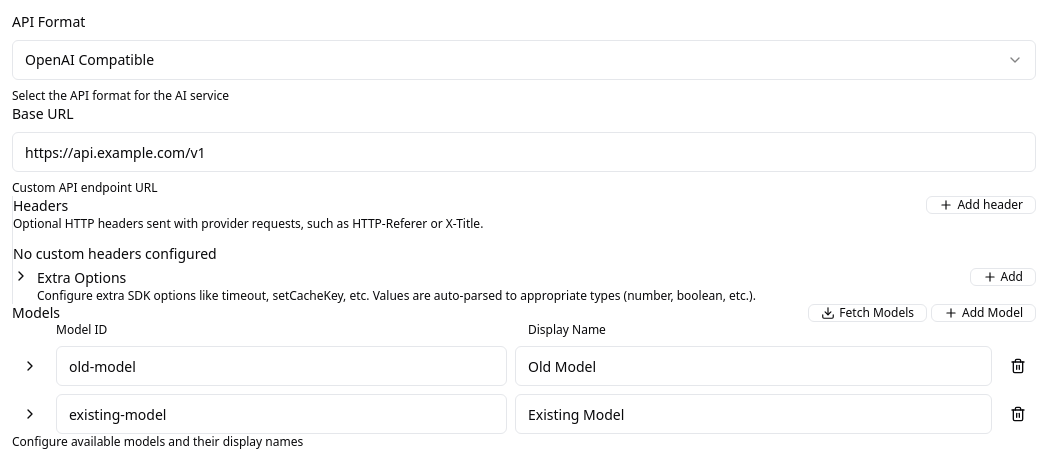
Scenario: OpenCodeFormFields › restores the model ID input when a manual rename collides with an existing model
Replace the text in the 1st field showing "old-model" with "existing-model" at {"x": 282, "y": 366}, box top-left (56, 346), bottom-right (507, 386)
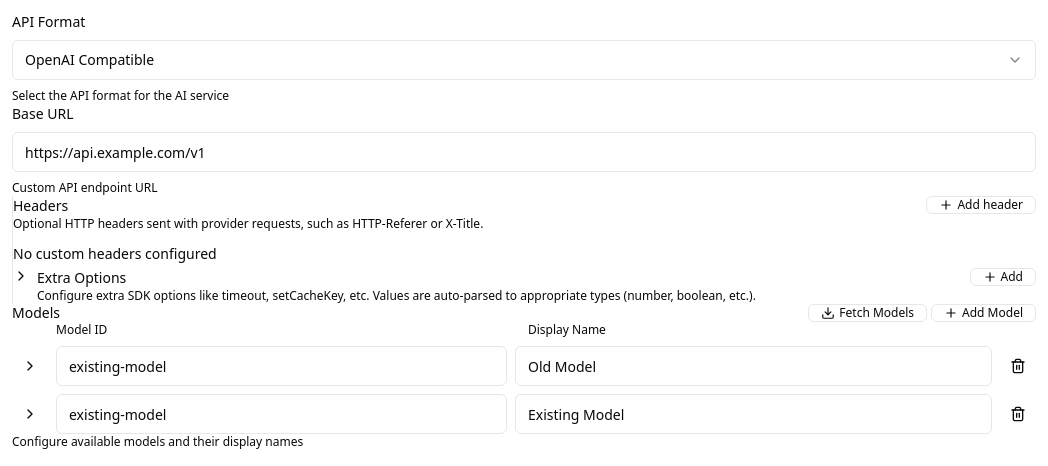
Leave the 1st field showing "old-model", box top-left (56, 346), bottom-right (507, 386)
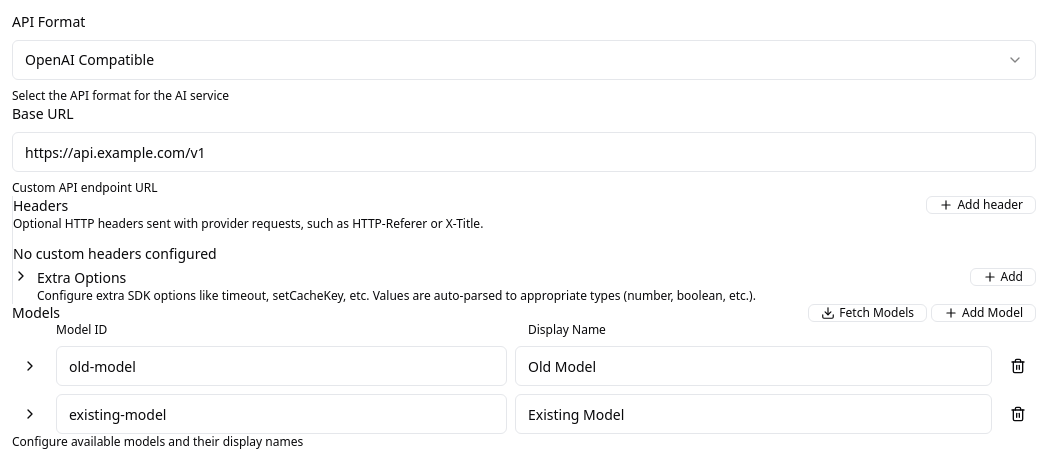
Expected: the 1st field showing "old-model" holds "old-model", top-left (56, 346), bottom-right (507, 386)
